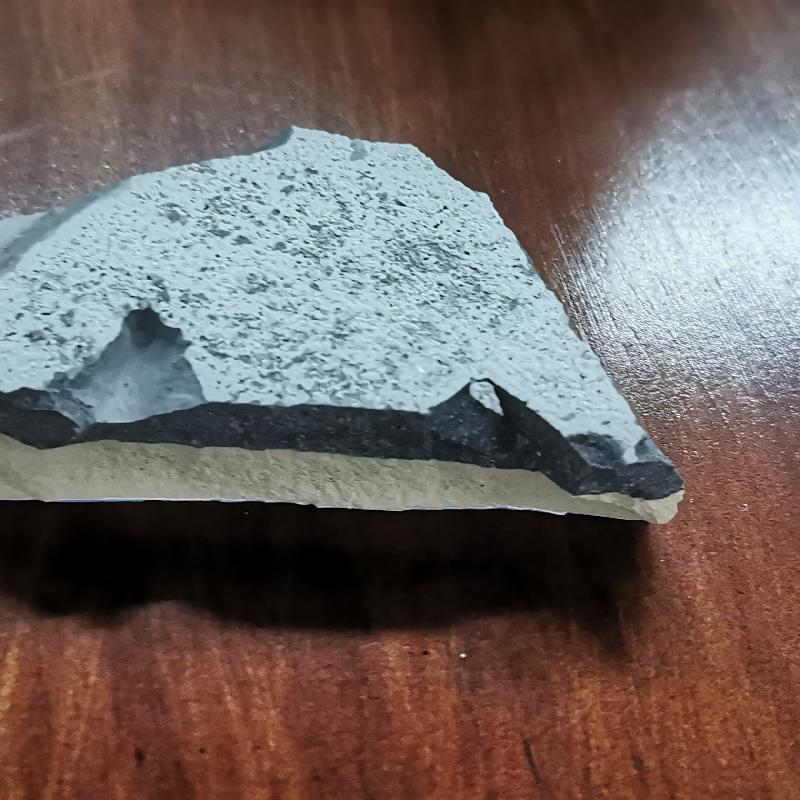tile: (1, 116, 690, 540)
